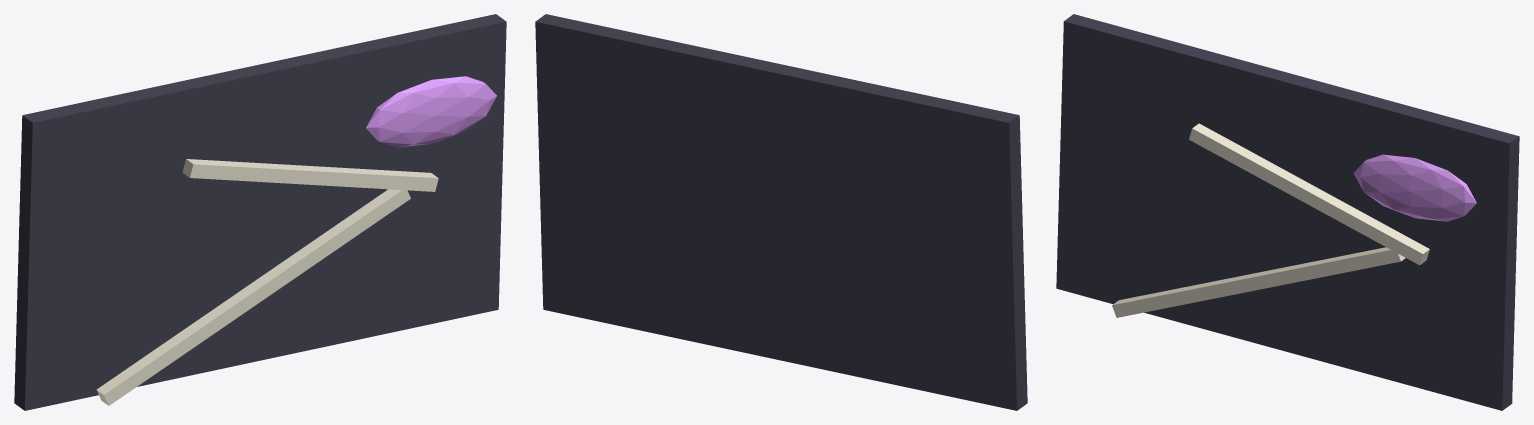
The model's file is 01_weathering_wear_overlay_1.glb.
3 renders of one model, left to right at view 1: azimuth 30°, elevation 25°; view 2: azimuth 150°, elevation 25°; view 3: azimuth 330°, elevation 25°, orthographic. The views are drawn at different scales.
Visible parts, largest first — view 1: wear_plate, scratch_a, rust_or_moss_spot, scratch_b; view 2: wear_plate; view 3: wear_plate, rust_or_moss_spot, scratch_b, scratch_a.
Boxes of the visible parts, left/top/right/bottom form: wear_plate: left=14, top=14, right=506, bottom=410; scratch_a: left=96, top=189, right=410, bottom=405; rust_or_moss_spot: left=366, top=76, right=496, bottom=147; scratch_b: left=182, top=159, right=438, bottom=191; wear_plate: left=535, top=14, right=1027, bottom=410; wear_plate: left=1056, top=14, right=1519, bottom=410; rust_or_moss_spot: left=1353, top=154, right=1476, bottom=221; scratch_b: left=1189, top=123, right=1429, bottom=265; scratch_a: left=1112, top=247, right=1405, bottom=317.
Bounding box in the file's own units: 1.32 × 0.7874 × 0.134.
